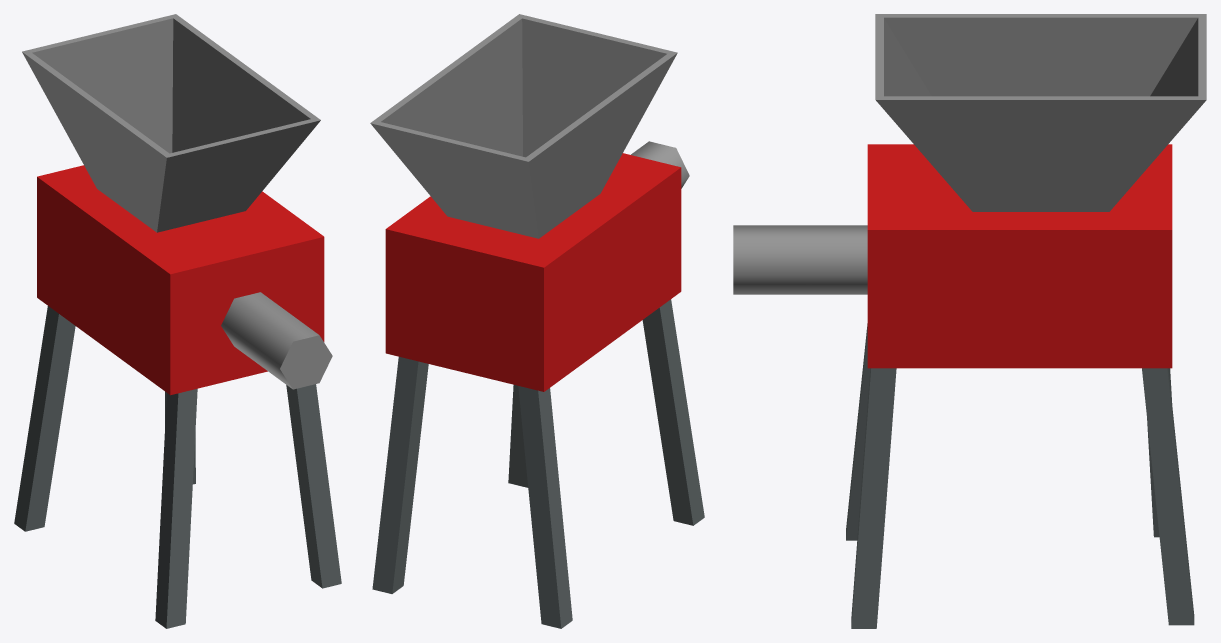
File: mode_ball_thrower.FBX
3 views of the same model, side by side, from view 1: azimuth 30°, elevation 25°; view 2: azimuth 150°, elevation 25°; view 3: azimuth 270°, elevation 25° (orthographic). The views are drawn at different scales.
Parts seen in each view (by area): view 1: Box001; view 2: Box001; view 3: Box001.
Boxes of the visible parts, x1,y1,x2,y2 form: Box001: [14, 14, 341, 628]; Box001: [370, 14, 704, 628]; Box001: [733, 14, 1206, 628].
Bounding box in the file's own units: 121 × 289 × 237.
Materials: 1 (1 with a texture image).
